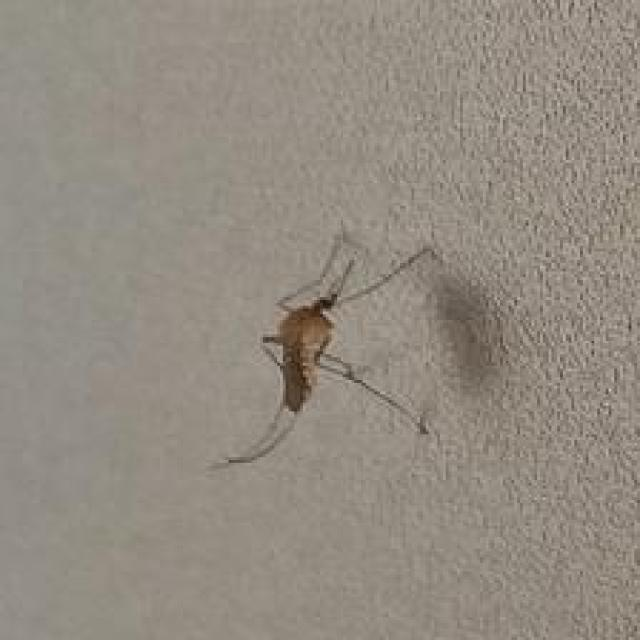Culex: (211, 220, 440, 469)
